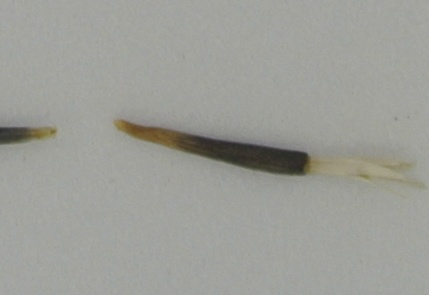เมล็ดงอกแตก: (110, 118, 429, 200)
